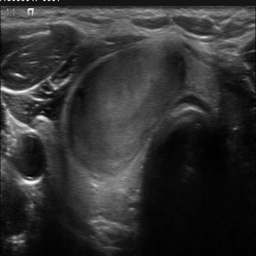mass: (64, 42, 187, 172)
